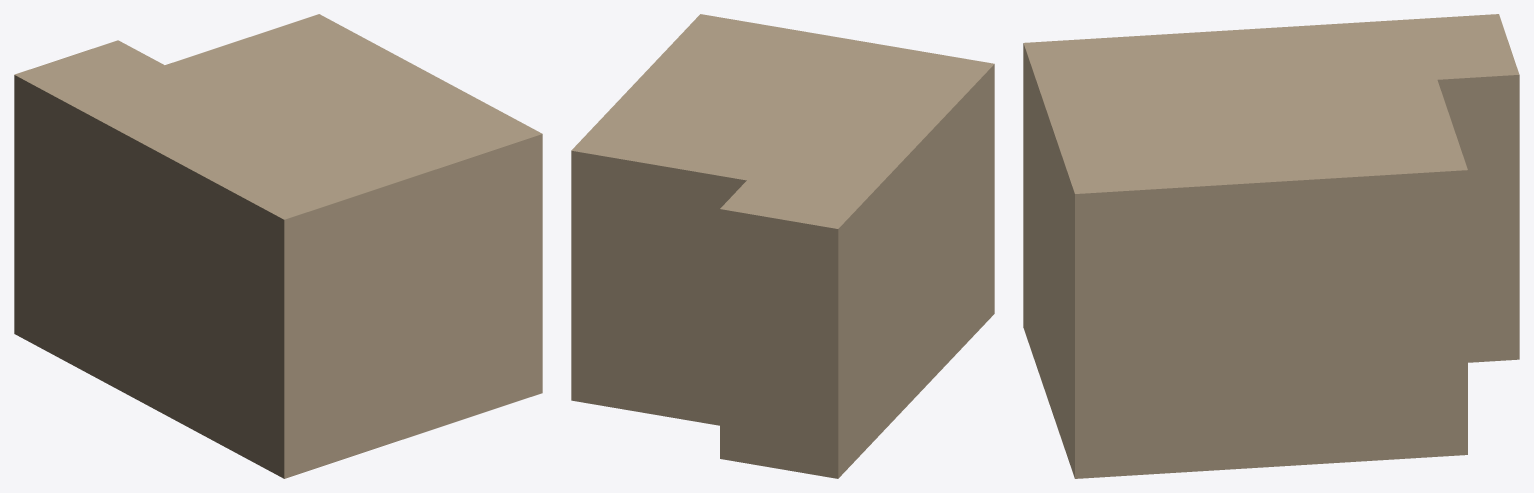
File: bld_107639026.dae
3 renders of one model, left to right at view 1: azimuth 30°, elevation 25°; view 2: azimuth 150°, elevation 25°; view 3: azimuth 270°, elevation 25°, orthographic. The views are drawn at different scales.
Parts seen in each view (by area): view 1: bld_107639026; view 2: bld_107639026; view 3: bld_107639026.
Boxes of the visible parts, <box> form: bld_107639026: <box>14,14,542,478</box>; bld_107639026: <box>571,14,994,478</box>; bld_107639026: <box>1023,14,1519,478</box>.
Size of the model in its own units: 10.85 by 12.62 by 8.
